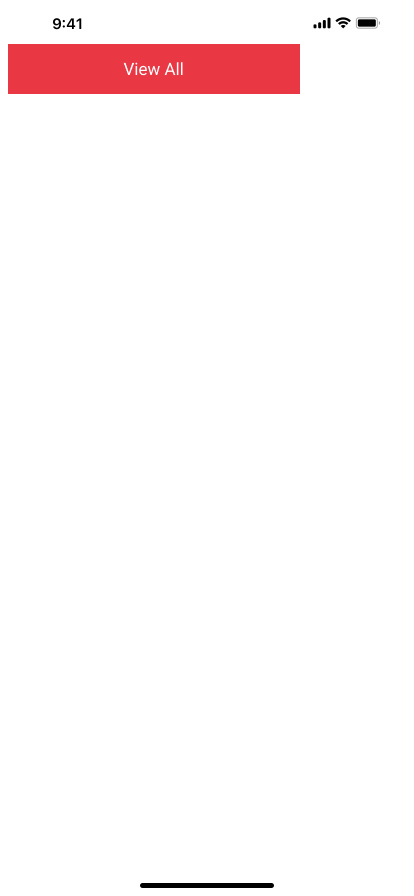Buttons: (8, 44, 300, 94)
Home Indicator: (0, 862, 414, 896)
Status Bar: (0, 0, 414, 44)
